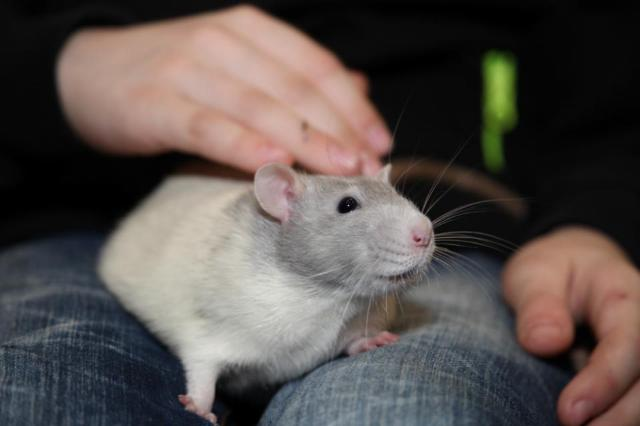rat: (167, 159, 447, 423)
